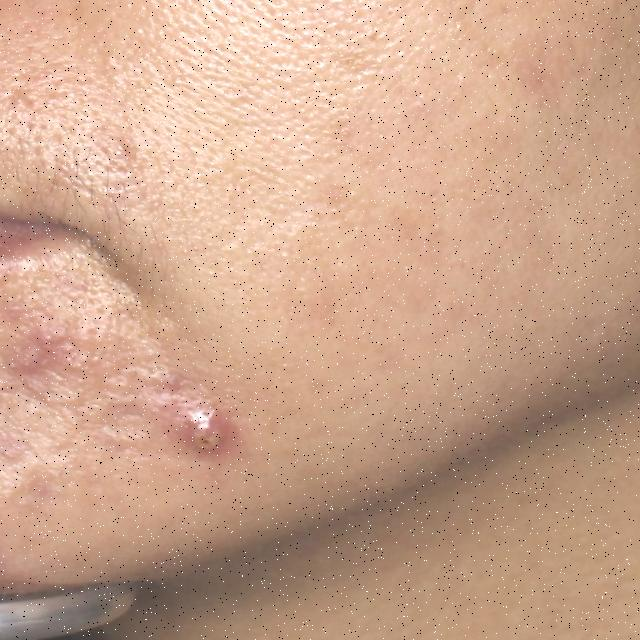nodules: (158, 388, 268, 490), (0, 286, 102, 392)
